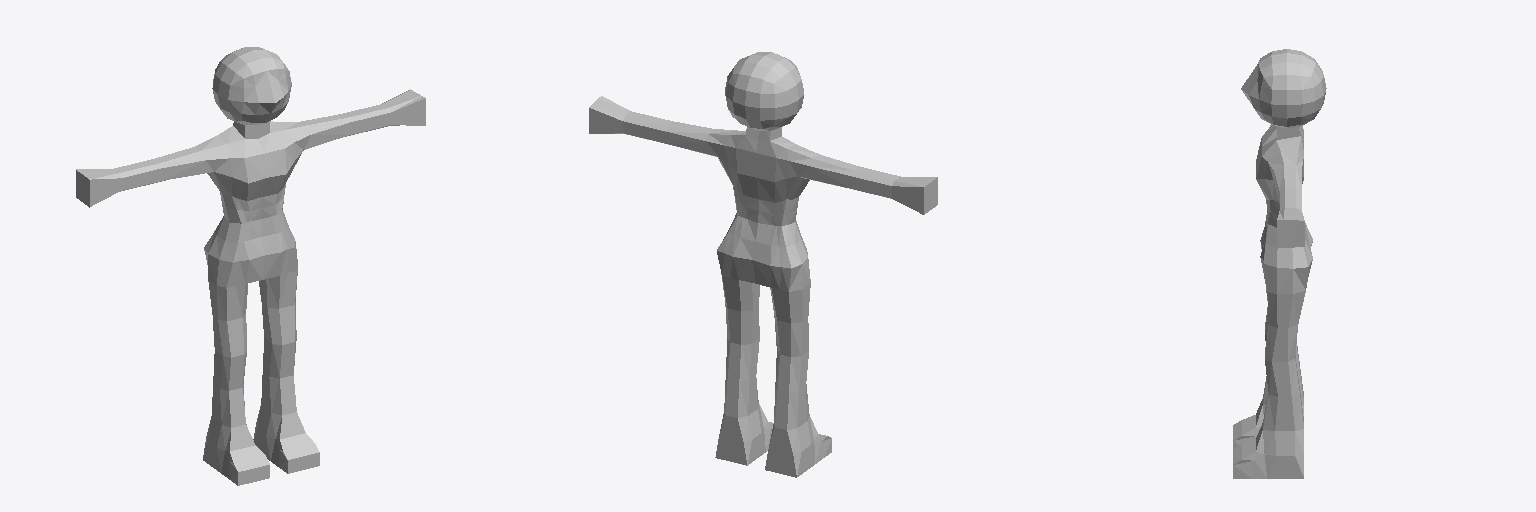
The model's file is player.obj.
The picture shows the model from 3 angles: view 1: azimuth 30°, elevation 25°; view 2: azimuth 150°, elevation 25°; view 3: azimuth 270°, elevation 25°; orthographic projection.
Visible parts, largest first — view 1: Cube; view 2: Cube; view 3: Cube.
Boxes of the visible parts, x1,y1,x2,y2 form: Cube: [76, 47, 425, 485]; Cube: [589, 52, 937, 477]; Cube: [1233, 49, 1326, 478].
Bounding box in the file's own units: 8.24 × 9.5 × 1.98.